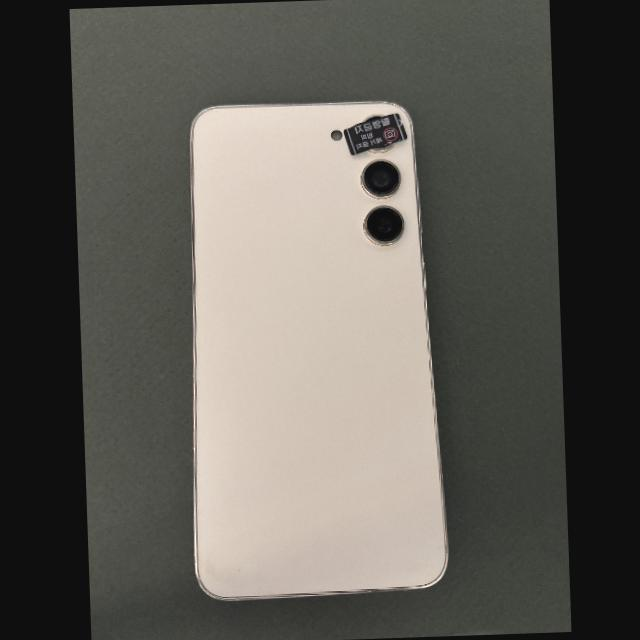lens: (360, 158, 400, 198), (363, 205, 403, 245), (370, 142, 393, 153)
phone: (189, 101, 447, 600)
sticker: (343, 113, 407, 155)
